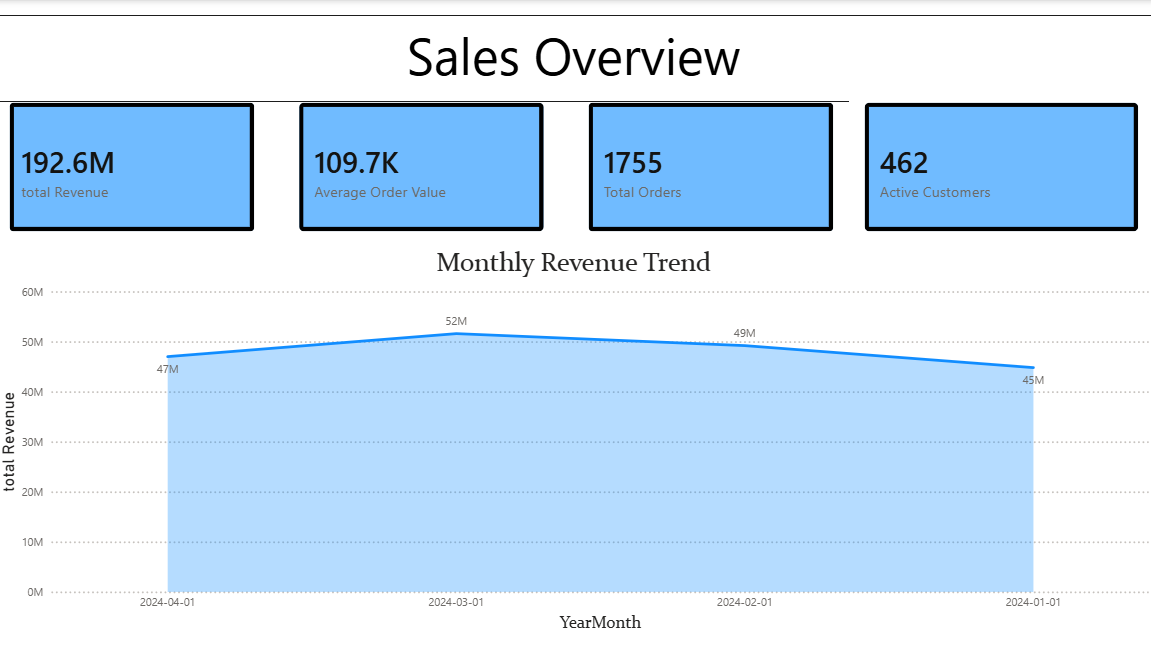

The dashboard page shown, as its layout file describes it:
{"tool":"powerbi","page":{"name":"Page 1","canvas":[1280,720],"ordinal":0},"visuals":[{"type":"cardVisual","fields":{"Data":["Churned_Customers.Average Order Value"]},"box":[320,96,304,176],"z":0},{"type":"cardVisual","fields":{"Data":["Churned_Customers.Total Orders"]},"box":[640,96,304,176],"z":1000},{"type":"cardVisual","fields":{"Data":["Churned_Customers.total Revenue"]},"box":[0,96,304,176],"z":2000},{"type":"textbox","box":[0,16,1280,96],"z":3000},{"type":"cardVisual","fields":{"Data":["Churned_Customers.Active Customers"]},"box":[944,96,336,176],"z":4000},{"type":"lineChart","title":"Monthly Revenue Trend","fields":{"Category":["Date_Dim_Monthly.YearMonth"],"Y":["Churned_Customers.total Revenue"]},"box":[0,272,1280,432],"z":5000}]}

Visuals, with their boxes in screenshot pixels (x1, y1, x2, y2), scaled from the page's 1280x720 canvas onto the 1151x647 screenshot:
cardVisual - Churned_Customers.Average Order Value: (left=288, top=86, right=561, bottom=244)
cardVisual - Churned_Customers.Total Orders: (left=576, top=86, right=849, bottom=244)
cardVisual - Churned_Customers.total Revenue: (left=0, top=86, right=273, bottom=244)
textbox: (left=0, top=14, right=1150, bottom=101)
cardVisual - Churned_Customers.Active Customers: (left=849, top=86, right=1150, bottom=244)
"Monthly Revenue Trend" lineChart: (left=0, top=244, right=1150, bottom=633)
